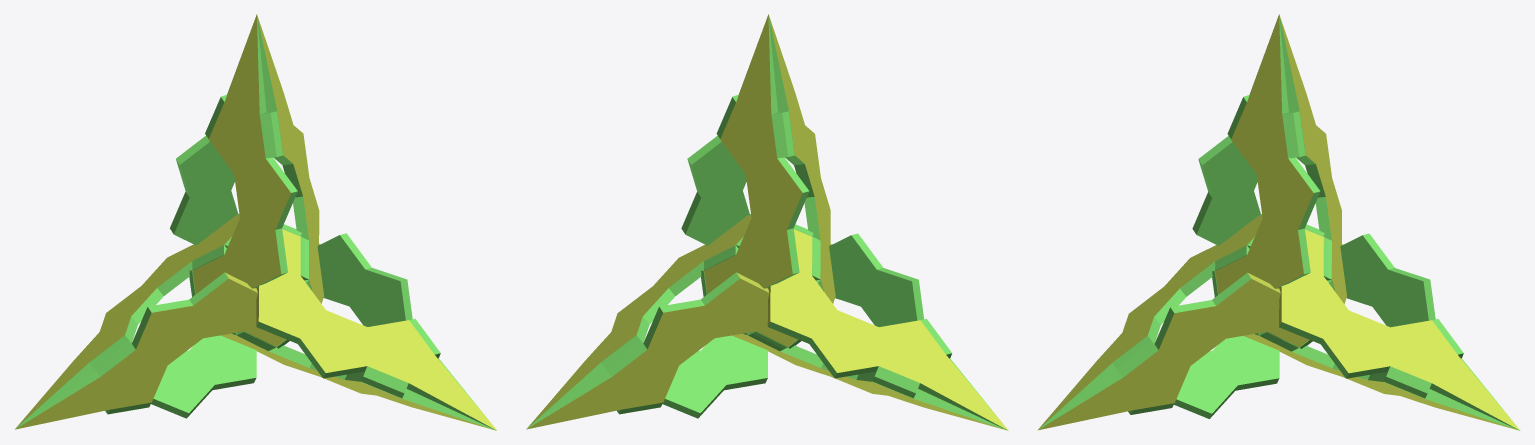
Rendered from PolyknotTetrahedron1.glb.
3 renders of one model, left to right at view 1: azimuth 30°, elevation 25°; view 2: azimuth 150°, elevation 25°; view 3: azimuth 270°, elevation 25°, orthographic.
Visible parts, largest first — view 1: OK_ESCHER_4.0_TETRAHEDRON_1Augmented_Dodeca; view 2: OK_ESCHER_4.0_TETRAHEDRON_1Augmented_Dodeca; view 3: OK_ESCHER_4.0_TETRAHEDRON_1Augmented_Dodeca.
Boxes of the visible parts, left/top/right/bottom form: OK_ESCHER_4.0_TETRAHEDRON_1Augmented_Dodeca: left=15, top=14, right=496, bottom=430; OK_ESCHER_4.0_TETRAHEDRON_1Augmented_Dodeca: left=526, top=14, right=1008, bottom=430; OK_ESCHER_4.0_TETRAHEDRON_1Augmented_Dodeca: left=1038, top=14, right=1520, bottom=430.
Size of the model in its own units: 102 by 100 by 118.
